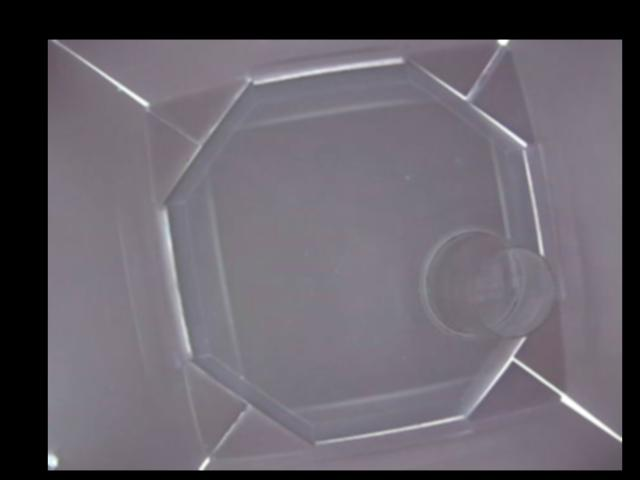Cup: (419, 228, 550, 338)
